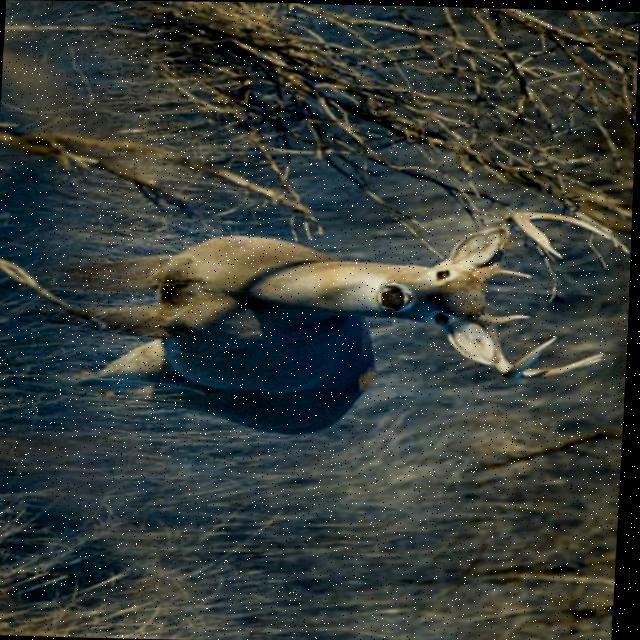L-G1: (492, 311, 534, 324)
L-G3: (516, 350, 609, 378)
L-G4: (516, 333, 562, 365)
R-G1: (497, 264, 536, 277)
R-G2: (526, 210, 613, 239)
R-G3: (512, 210, 567, 257)
